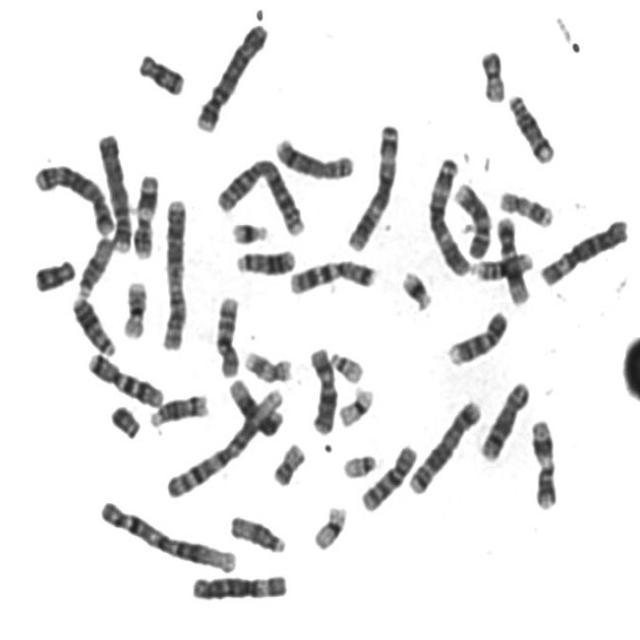A1: (160, 380, 287, 501), (93, 492, 240, 575)
A2: (210, 150, 309, 238), (155, 191, 191, 353)
A3: (342, 117, 402, 252), (423, 150, 473, 278)
B4: (190, 16, 269, 134), (91, 126, 134, 254)
B5: (403, 392, 484, 496), (28, 156, 116, 237)
C10: (356, 438, 420, 514), (208, 288, 243, 379)
C11: (525, 413, 560, 512), (127, 167, 160, 260)
C12: (490, 210, 533, 306), (223, 371, 285, 437)
C6: (534, 212, 631, 288), (185, 566, 290, 602)
C7: (83, 346, 165, 408), (283, 251, 380, 296)
C8: (475, 374, 533, 462), (269, 130, 357, 181)
C9: (442, 303, 511, 368), (448, 178, 494, 260)
D13: (66, 290, 118, 358), (235, 243, 299, 281)
D14: (502, 87, 556, 165), (144, 386, 210, 428)
D15: (224, 508, 288, 554), (72, 230, 114, 300)
E16: (469, 246, 535, 282), (116, 274, 149, 340)
E17: (494, 183, 556, 230), (239, 344, 295, 384)
E18: (132, 45, 187, 97), (30, 254, 84, 293)
F19: (307, 498, 349, 552), (332, 380, 376, 428)
F20: (266, 436, 308, 488), (474, 43, 508, 104)
G21: (395, 262, 436, 312), (226, 215, 269, 246)
G22: (324, 345, 366, 384), (336, 446, 379, 479)
X: (303, 341, 339, 436)
Y: (104, 398, 143, 440)
